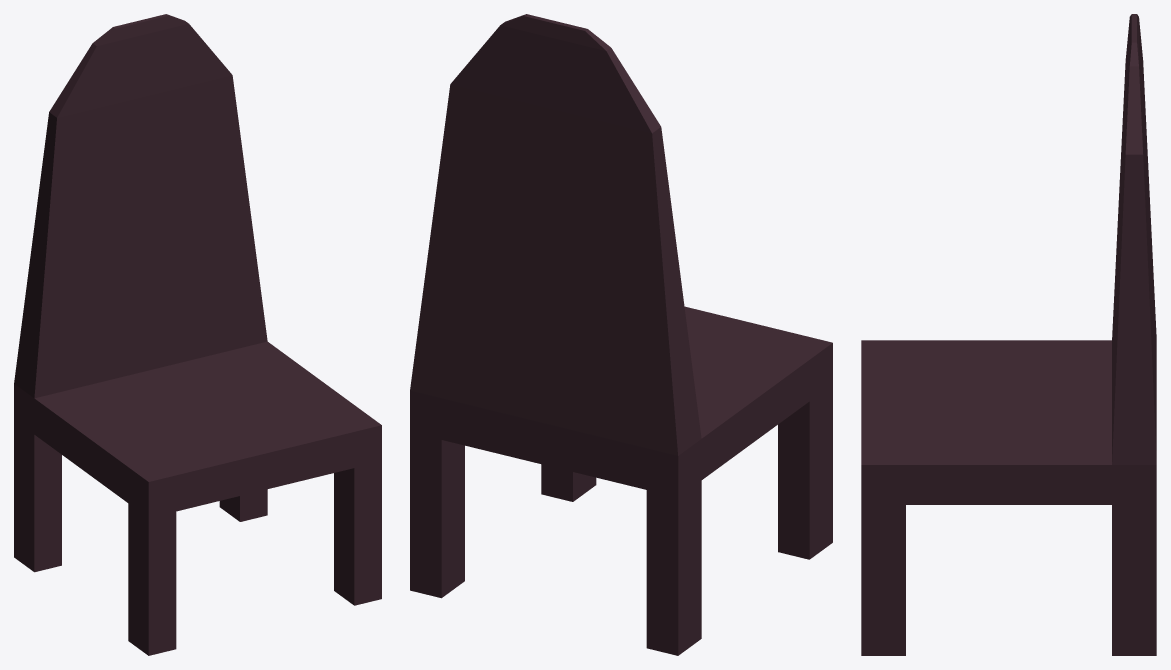
Rendered from Chair.glb.
3 renders of one model, left to right at view 1: azimuth 30°, elevation 25°; view 2: azimuth 150°, elevation 25°; view 3: azimuth 270°, elevation 25°, orthographic. The views are drawn at different scales.
Parts seen in each view (by area): view 1: Chair; view 2: Chair; view 3: Chair.
Part boxes in pixels (x1,y1,x2,y2): Chair: (14,14,381,655); Chair: (410,14,832,655); Chair: (861,14,1156,655).
Bounding box in the file's own units: 1.42 × 2.99 × 1.42.
Materials: 1 (1 with a texture image).
